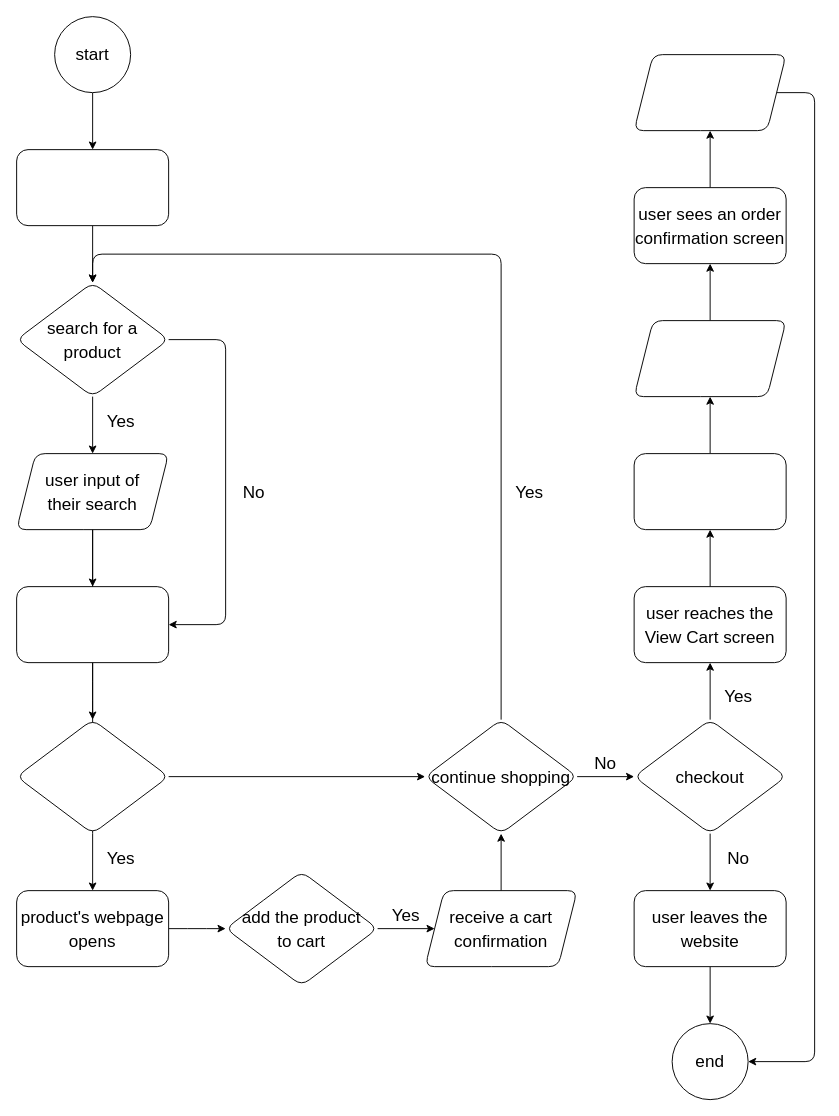
Some shapes in this 839 by 1116 pixel diagram are drawn without their labels. Each missing label, with the box of its shape:
user enters the website: (16, 149, 169, 226)
user input of payment information: (633, 320, 786, 397)
user looks over the products: (16, 586, 169, 663)
user reaches the View Payment screen: (633, 453, 786, 530)
user receives an email: (633, 54, 786, 131)
view a specific product: (16, 719, 169, 834)
